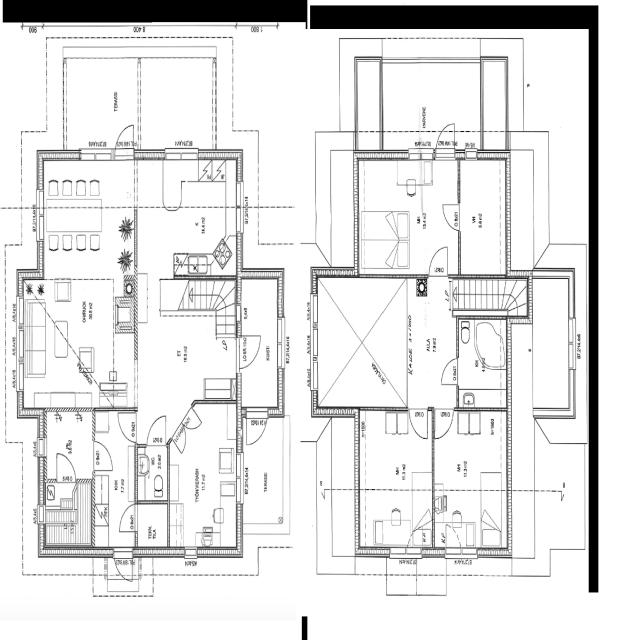door: (236, 330, 263, 370), (244, 405, 268, 448), (433, 121, 458, 161), (426, 240, 451, 278), (432, 404, 455, 442), (145, 411, 168, 449), (112, 546, 134, 584), (52, 452, 78, 484), (407, 406, 430, 442), (114, 122, 138, 156), (439, 200, 462, 235), (92, 438, 114, 473), (438, 355, 461, 388), (117, 409, 138, 444), (118, 501, 140, 533), (171, 420, 189, 458), (30, 438, 45, 459)
window: (564, 308, 580, 377), (14, 292, 28, 366), (158, 143, 205, 165), (307, 294, 320, 372), (234, 186, 251, 238), (444, 544, 478, 566), (359, 266, 399, 284), (478, 57, 488, 124), (14, 360, 27, 394), (388, 542, 410, 560), (182, 544, 201, 564), (35, 501, 47, 529)
zone: (18, 276, 133, 406), (312, 272, 410, 408), (133, 165, 239, 282), (356, 157, 460, 275), (39, 150, 134, 278), (432, 408, 508, 556), (357, 414, 435, 552), (168, 407, 240, 552), (138, 52, 218, 155), (61, 52, 140, 156), (458, 153, 509, 278), (236, 284, 281, 395), (458, 318, 508, 411), (40, 405, 95, 485), (42, 480, 92, 547), (135, 444, 168, 501), (136, 499, 171, 552)
